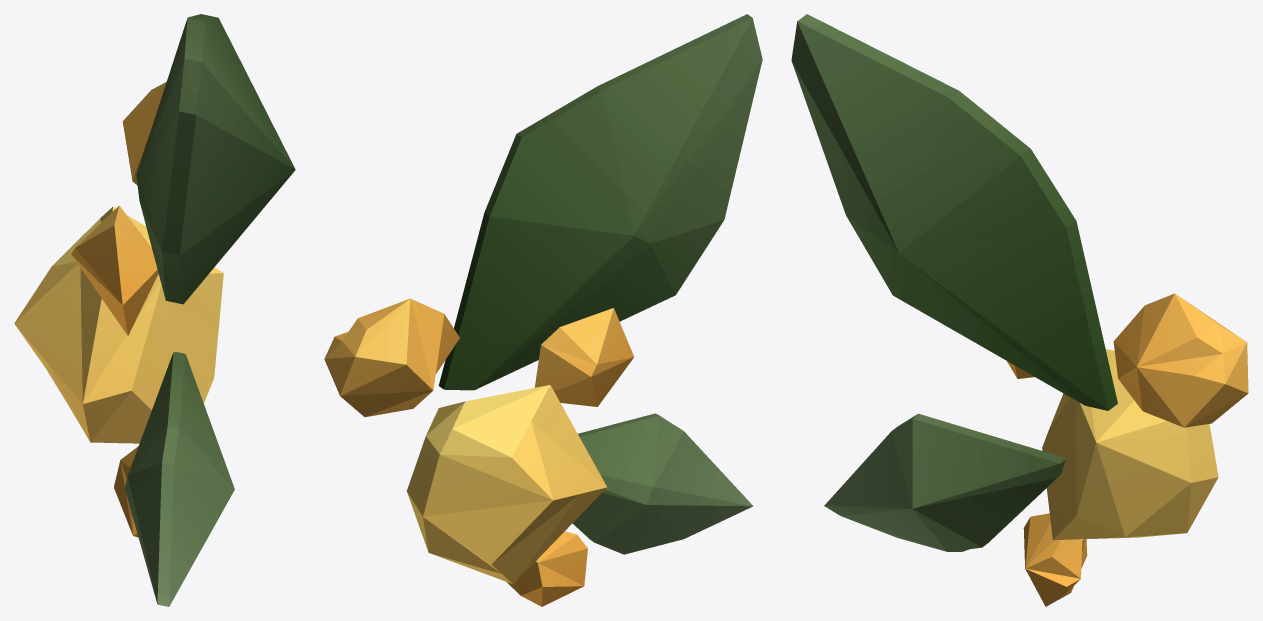
Rendered from CharSkyKid_Hat_MoonlightFlower.glb.
3 renders of one model, left to right at view 1: azimuth 30°, elevation 25°; view 2: azimuth 150°, elevation 25°; view 3: azimuth 270°, elevation 25°, orthographic. The views are drawn at different scales.
Visible parts, largest first — view 1: CharSkyKid_Hat_MoonlightFlower; view 2: CharSkyKid_Hat_MoonlightFlower; view 3: CharSkyKid_Hat_MoonlightFlower.
Part boxes in pixels (left/top/right/bottom): CharSkyKid_Hat_MoonlightFlower: left=14, top=14, right=295, bottom=606; CharSkyKid_Hat_MoonlightFlower: left=324, top=14, right=762, bottom=606; CharSkyKid_Hat_MoonlightFlower: left=791, top=14, right=1248, bottom=606.
Bounding box in the file's own units: 0.675 × 1.4 × 1.07.
Materials: 1 (1 with a texture image).
